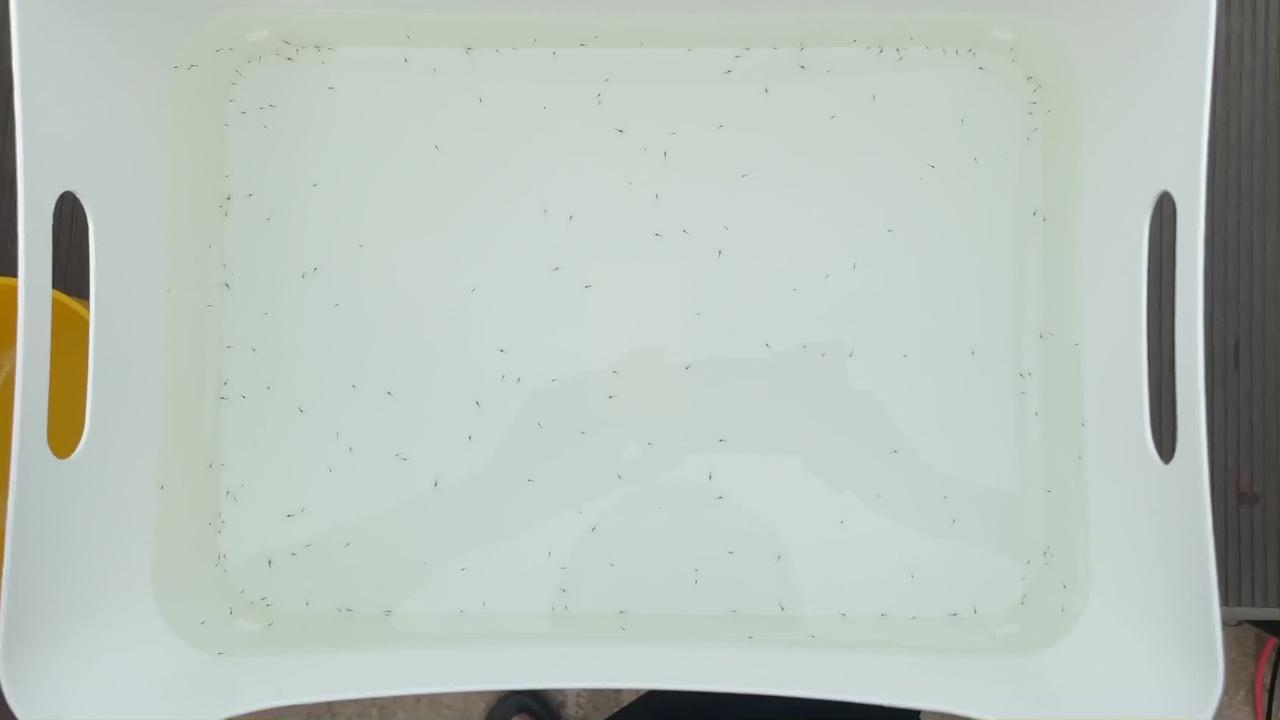shrimp: (1015, 600, 1028, 608), (1075, 451, 1088, 459), (1022, 135, 1035, 143), (844, 35, 857, 43), (792, 285, 805, 293), (817, 351, 830, 359), (909, 572, 922, 580), (948, 611, 961, 619), (806, 634, 819, 642), (745, 633, 758, 641), (776, 606, 789, 614), (647, 440, 660, 448), (713, 124, 726, 132), (737, 174, 750, 182), (759, 85, 772, 93), (639, 41, 652, 49), (550, 52, 563, 60), (462, 52, 475, 60), (603, 79, 616, 87), (580, 285, 593, 293), (496, 345, 509, 353), (399, 456, 412, 464), (391, 450, 404, 458), (322, 467, 335, 475), (301, 600, 314, 608), (215, 655, 228, 663), (206, 522, 219, 530), (230, 500, 243, 508), (220, 489, 233, 497), (353, 240, 366, 248), (264, 218, 277, 226), (221, 213, 234, 221), (225, 46, 238, 54), (228, 68, 241, 76), (249, 57, 262, 65), (287, 57, 300, 65), (878, 495, 891, 503), (956, 113, 968, 121), (429, 69, 441, 77), (402, 57, 414, 65), (613, 124, 625, 132), (513, 379, 525, 387), (552, 378, 564, 386), (430, 478, 442, 486), (457, 606, 469, 614), (202, 622, 214, 630), (286, 550, 298, 558), (213, 550, 225, 558), (214, 462, 226, 470), (1011, 615, 1024, 622), (1020, 594, 1033, 601), (1022, 561, 1035, 568), (1046, 554, 1059, 561), (1035, 550, 1048, 557), (1045, 546, 1058, 553), (1045, 487, 1058, 494), (1030, 410, 1043, 417), (1018, 389, 1031, 396), (1013, 369, 1026, 376), (1037, 334, 1050, 341), (1073, 338, 1086, 345), (1046, 330, 1059, 337), (967, 349, 980, 356), (1041, 214, 1054, 221), (1030, 204, 1043, 211), (927, 159, 940, 166), (971, 155, 984, 162), (1032, 127, 1045, 134), (1042, 109, 1055, 116), (1027, 110, 1040, 117), (1032, 89, 1045, 96), (1028, 75, 1041, 82), (1008, 60, 1021, 67), (1009, 46, 1022, 53), (974, 63, 987, 70), (964, 46, 977, 53), (950, 49, 963, 56), (921, 42, 934, 49), (906, 40, 919, 47), (894, 56, 907, 63), (876, 48, 889, 55), (873, 41, 886, 48), (862, 45, 875, 52), (870, 93, 883, 100), (826, 116, 839, 123), (885, 230, 898, 237), (824, 270, 837, 277), (796, 344, 809, 351), (845, 349, 858, 356), (899, 349, 912, 356), (888, 445, 901, 452), (940, 493, 953, 500), (835, 520, 848, 527), (971, 605, 984, 612), (908, 615, 921, 622), (878, 610, 891, 617), (838, 616, 851, 623), (729, 609, 742, 616), (775, 553, 788, 560), (723, 547, 736, 554), (688, 568, 701, 575), (619, 628, 632, 635), (560, 602, 573, 609), (546, 606, 559, 613), (557, 588, 570, 595), (559, 566, 572, 573), (545, 550, 558, 557), (608, 566, 621, 573), (585, 522, 598, 529), (703, 471, 716, 478), (752, 419, 765, 426), (579, 433, 592, 440), (606, 392, 619, 399), (610, 367, 623, 374), (714, 252, 727, 259), (724, 221, 737, 228), (680, 230, 693, 237), (654, 196, 667, 203), (625, 179, 638, 186), (640, 147, 653, 154), (661, 151, 674, 158), (671, 128, 684, 135), (825, 66, 838, 73), (797, 42, 810, 49), (770, 42, 783, 49), (741, 45, 754, 52), (729, 52, 742, 59), (721, 64, 734, 71), (588, 34, 601, 41), (578, 42, 591, 49), (526, 36, 539, 43), (509, 46, 522, 53), (493, 48, 506, 55), (463, 46, 476, 53), (404, 39, 417, 46), (432, 144, 445, 151), (473, 100, 486, 107), (538, 103, 551, 110), (593, 102, 606, 109), (593, 87, 606, 94), (563, 217, 576, 224), (534, 205, 547, 212), (549, 269, 562, 276), (496, 372, 509, 379), (523, 477, 536, 484), (469, 399, 482, 406), (466, 435, 479, 442), (382, 389, 395, 396), (348, 387, 361, 394), (457, 566, 470, 573), (474, 602, 487, 609), (386, 610, 399, 617), (345, 609, 358, 616), (331, 606, 344, 613), (225, 612, 238, 619), (238, 586, 251, 593), (261, 594, 274, 601), (269, 623, 282, 630), (304, 542, 317, 549), (344, 541, 357, 548), (220, 568, 233, 575), (208, 561, 221, 568), (221, 553, 234, 560), (214, 525, 227, 532), (216, 520, 229, 527), (153, 482, 166, 489), (236, 480, 249, 487), (203, 463, 216, 470), (218, 396, 231, 403), (218, 374, 231, 381), (294, 406, 307, 413), (247, 351, 260, 358), (221, 343, 234, 350), (203, 300, 216, 307), (224, 284, 237, 291), (219, 260, 232, 267), (206, 241, 219, 248), (301, 275, 314, 282), (309, 265, 322, 272), (309, 182, 322, 189), (368, 158, 381, 165), (214, 205, 227, 212), (224, 195, 237, 202), (225, 175, 238, 182), (222, 124, 235, 131), (258, 121, 271, 128), (266, 101, 279, 108), (236, 108, 249, 115), (227, 96, 240, 103), (183, 68, 196, 75), (187, 60, 200, 67), (168, 66, 181, 73), (228, 84, 241, 91), (236, 67, 249, 74), (254, 55, 267, 62), (273, 55, 286, 62), (280, 38, 293, 45), (300, 44, 313, 51), (311, 46, 324, 53), (316, 60, 329, 67), (327, 84, 340, 91), (1056, 604, 1068, 611), (1061, 582, 1073, 589), (1039, 557, 1051, 564), (1077, 423, 1089, 430), (1022, 369, 1034, 376), (1022, 96, 1034, 103), (1039, 83, 1051, 90), (1022, 78, 1034, 85), (972, 49, 984, 56), (939, 48, 951, 55), (889, 45, 901, 52), (851, 263, 863, 270), (762, 341, 774, 348), (950, 517, 962, 524), (690, 582, 702, 589), (618, 606, 630, 613), (573, 507, 585, 514), (613, 478, 625, 485), (712, 497, 724, 504), (717, 435, 729, 442), (684, 358, 696, 365), (696, 316, 708, 323), (651, 233, 663, 240), (795, 64, 807, 71), (684, 46, 696, 53), (469, 286, 481, 293), (535, 422, 547, 429), (346, 448, 358, 455), (330, 431, 342, 438), (264, 605, 276, 612), (264, 561, 276, 568), (297, 505, 309, 512), (285, 510, 297, 517), (214, 507, 226, 514), (236, 394, 248, 401), (263, 383, 275, 390), (264, 309, 276, 316), (247, 189, 259, 196), (258, 104, 270, 111), (213, 48, 225, 55), (291, 47, 303, 54), (324, 45, 336, 52)
